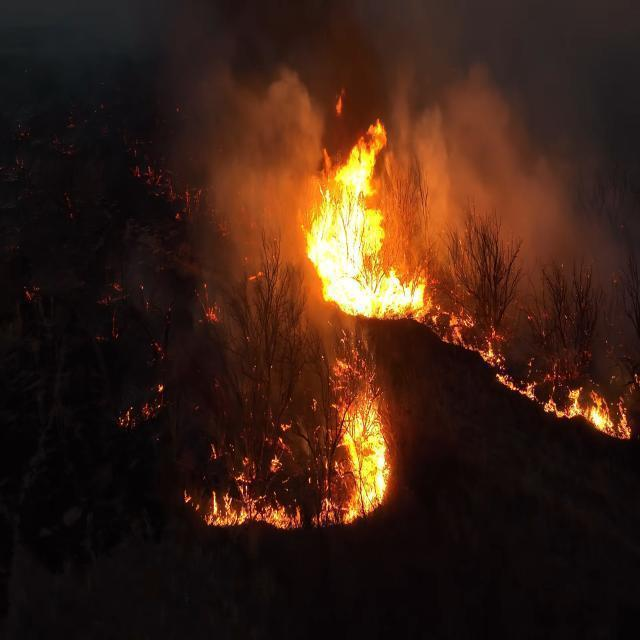Fire: (302, 119, 424, 308), (331, 343, 393, 511)
Smoke: (199, 41, 286, 219)
